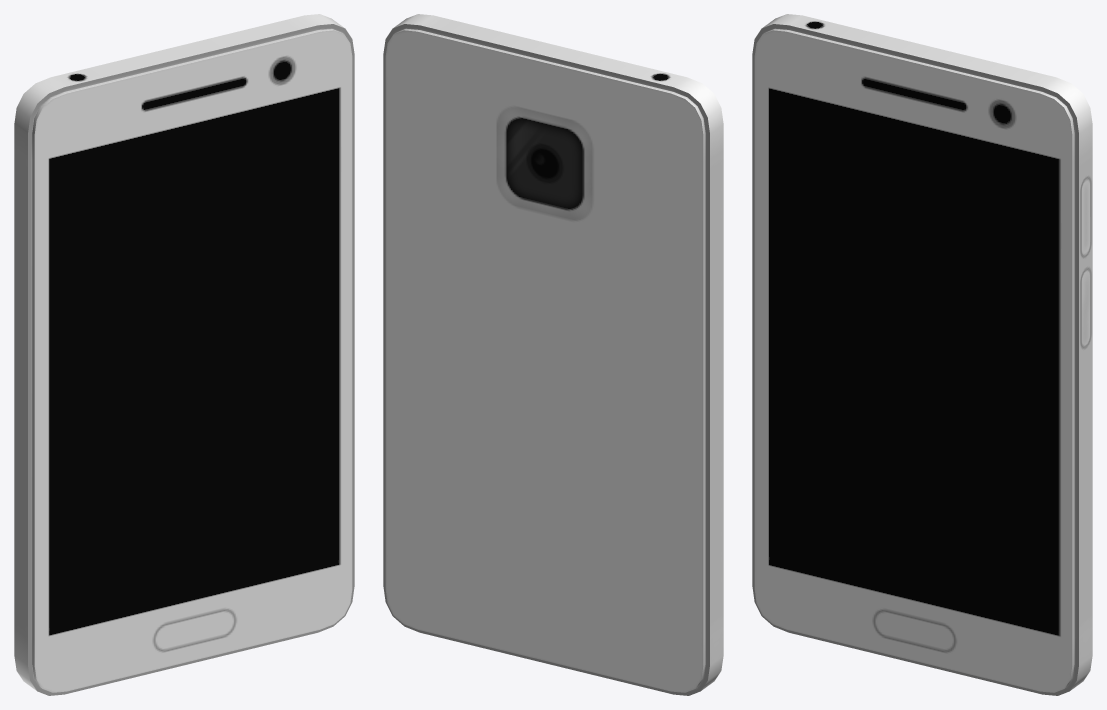
The model's file is ENV2010100.fbx.
3 renders of one model, left to right at view 1: azimuth 30°, elevation 25°; view 2: azimuth 150°, elevation 25°; view 3: azimuth 330°, elevation 25°, orthographic.
Parts seen in each view (by area): view 1: smENV2010100; view 2: smENV2010100; view 3: smENV2010100.
Boxes of the visible parts, <box> form: smENV2010100: <box>14,14,354,695</box>; smENV2010100: <box>383,14,723,695</box>; smENV2010100: <box>752,14,1092,695</box>.
Bounding box in the file's own units: 7.47 × 13.27 × 0.7167.
Materials: 1 (1 with a texture image).
